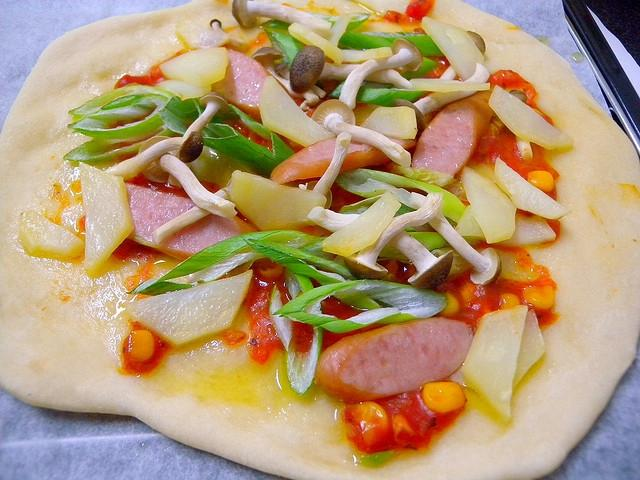mushroom: (306, 206, 454, 288), (343, 192, 444, 280), (408, 192, 502, 285), (138, 136, 238, 219), (392, 62, 491, 132), (312, 100, 412, 168), (290, 45, 414, 94), (339, 38, 423, 110), (152, 179, 232, 245), (105, 131, 204, 181), (232, 1, 332, 39), (306, 132, 352, 208), (183, 94, 230, 138), (466, 30, 486, 56)
